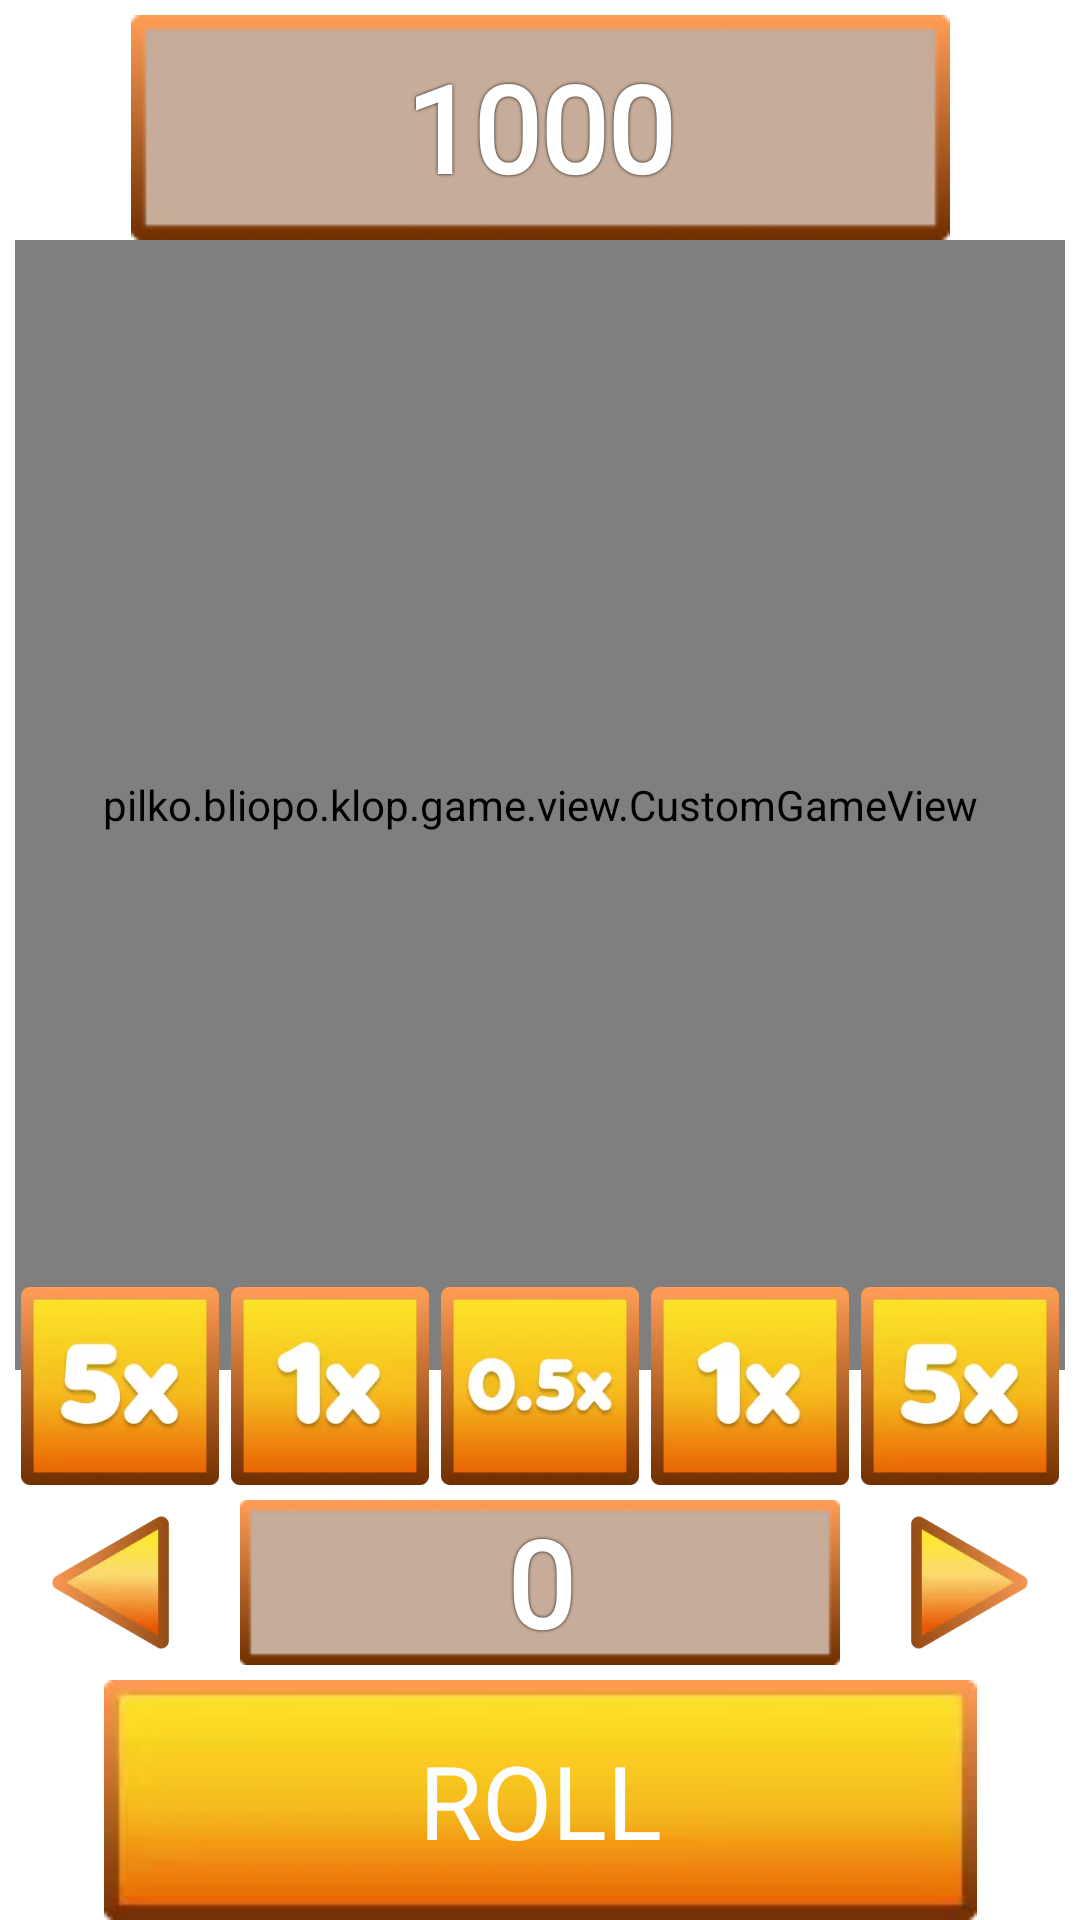

Named icons in this screenshot (1080px x 1920px) and their bounding boxes, box=[x1, y1, x2, y2]:
arrow left: box=[52, 1516, 169, 1649]
arrow right: box=[911, 1516, 1028, 1649]
